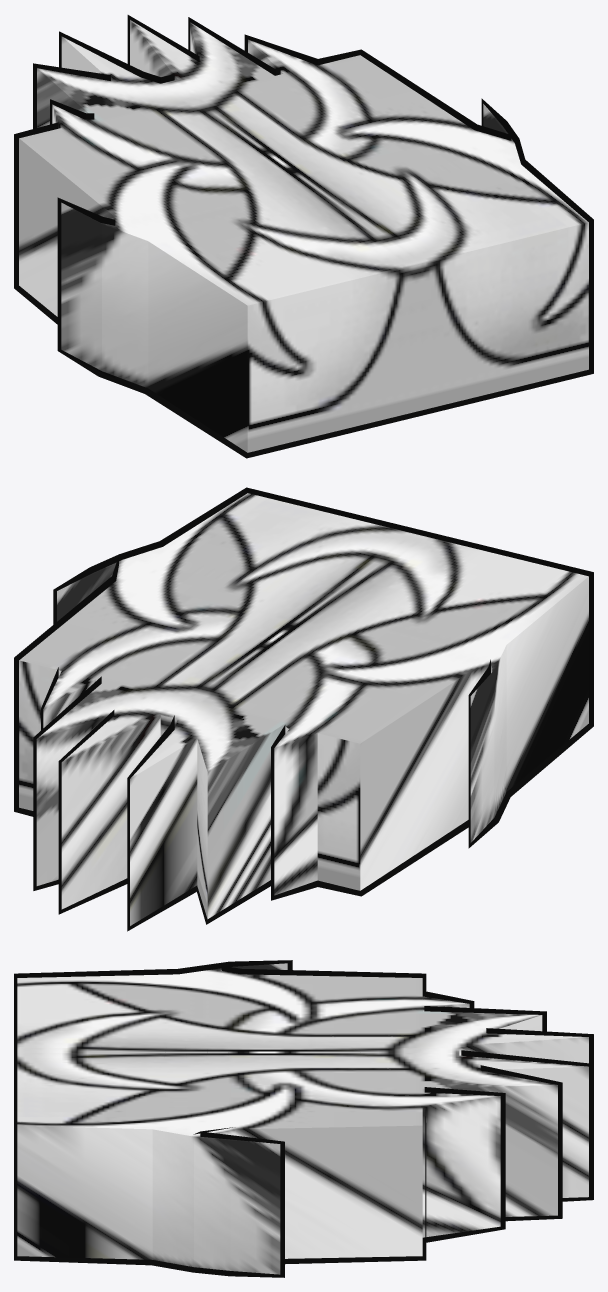
Rendered from Building_SculptureGrand_Things_Building_Art_SculptureGrand_SculptureGrandAbstractA.glb.
3 views of the same model, one above another, from view 1: azimuth 30°, elevation 25°; view 2: azimuth 150°, elevation 25°; view 3: azimuth 270°, elevation 25° (orthographic). The views are drawn at different scales.
Visible parts, largest first — view 1: Body, Outline; view 2: Body, Outline; view 3: Body, Outline.
Boxes of the visible parts, x1,y1,x2,y2 form: Body: [19, 20, 588, 452]; Outline: [14, 15, 593, 458]; Body: [19, 493, 588, 925]; Outline: [14, 487, 593, 931]; Body: [17, 963, 588, 1274]; Outline: [14, 960, 593, 1277].
Size of the model in its own units: 1.15 by 0.4176 by 1.56.
Materials: 2 (1 with a texture image).
